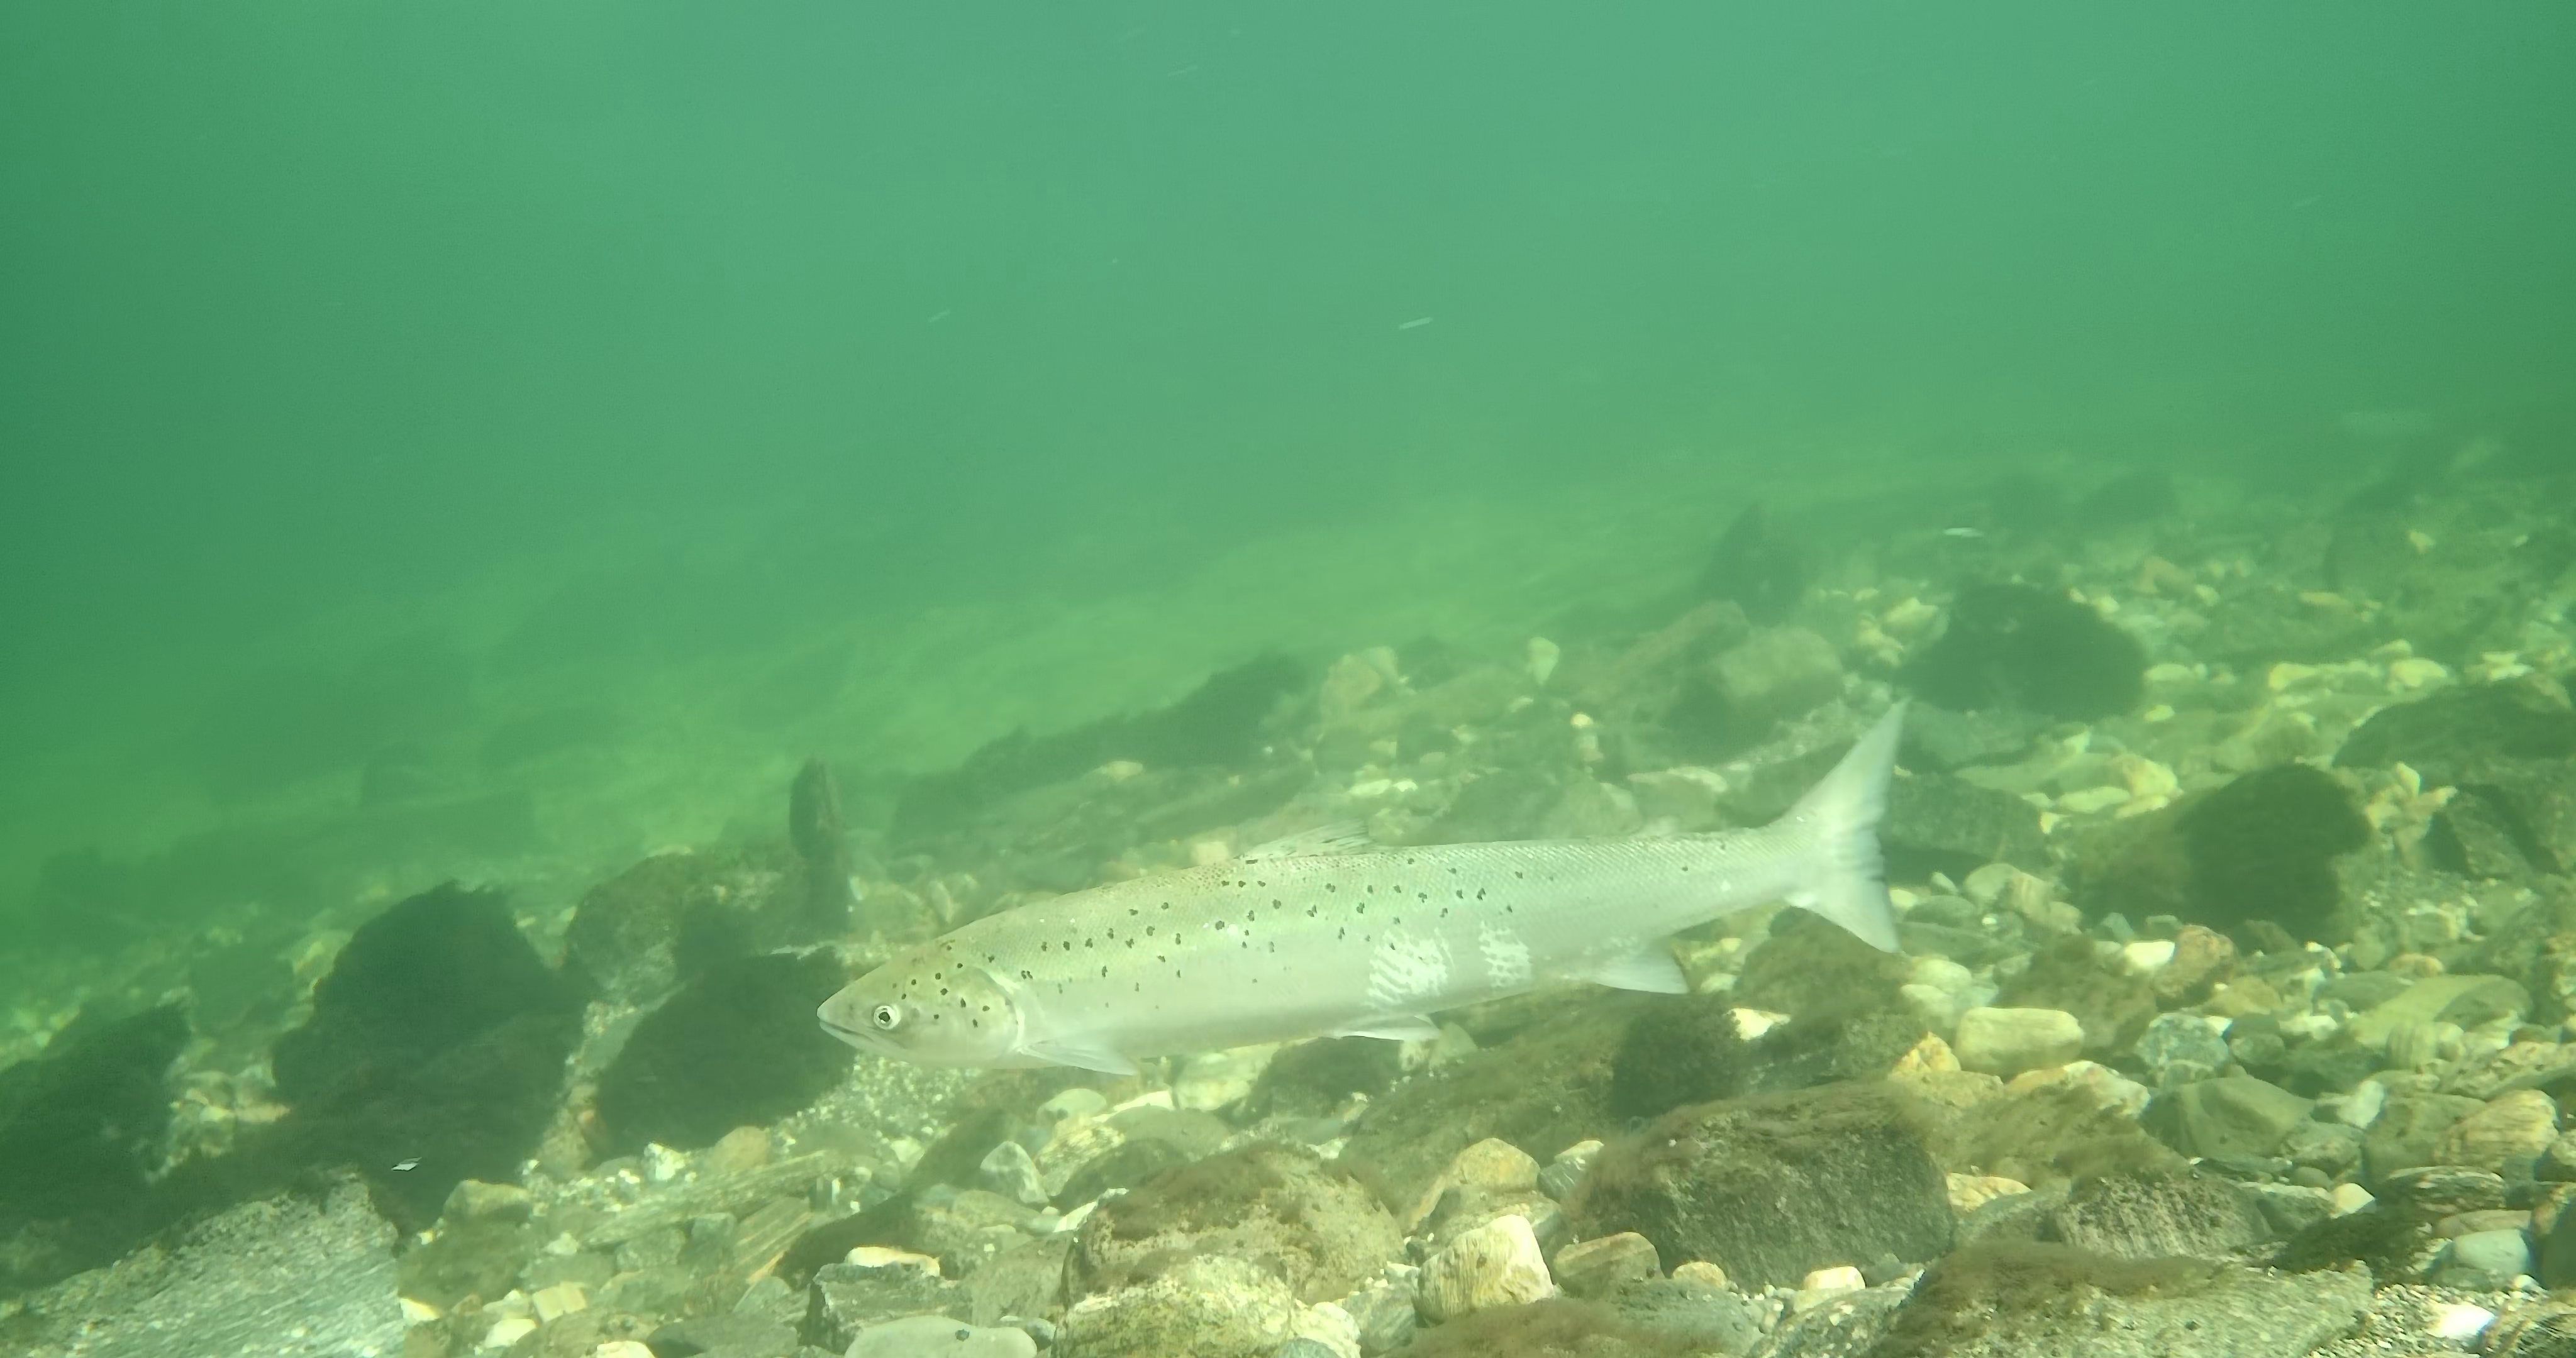salmon: (813, 697, 1912, 1082)
